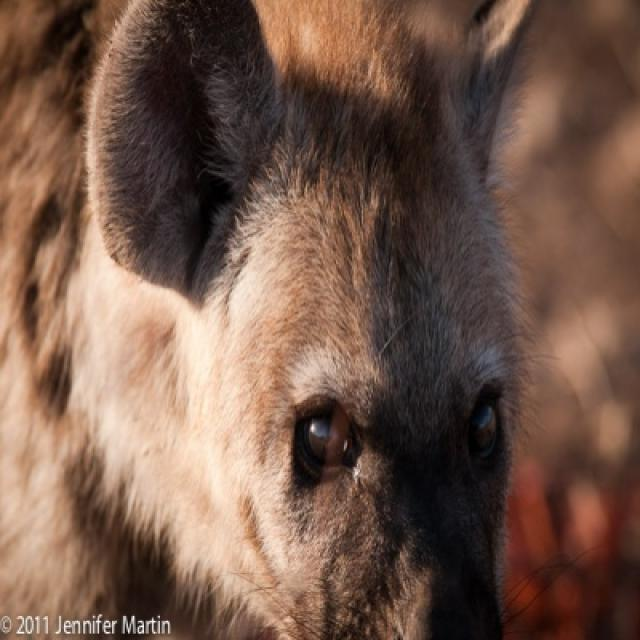hyena: (0, 0, 530, 638)
